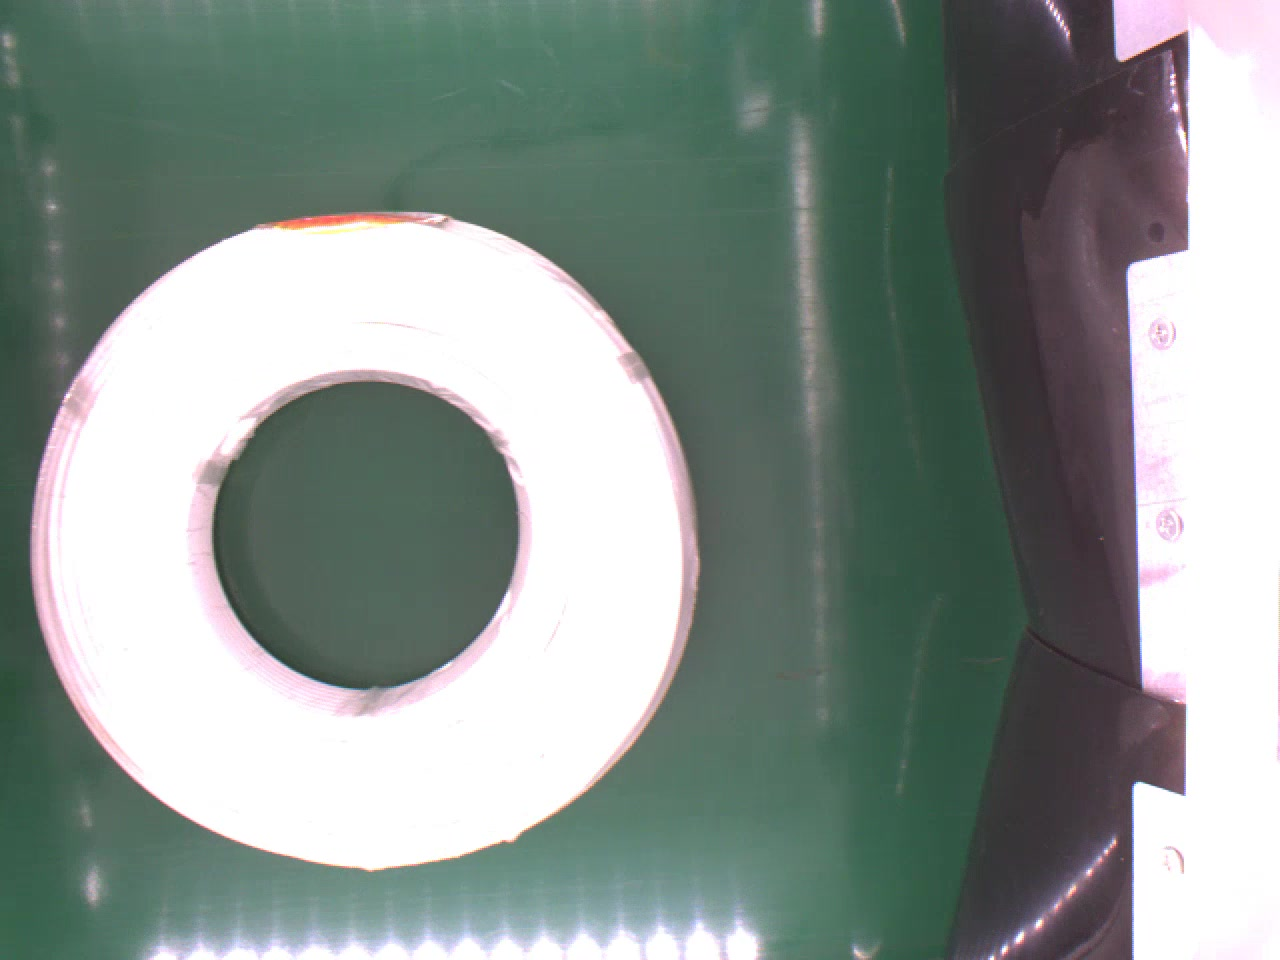white: (23, 207, 706, 878)
